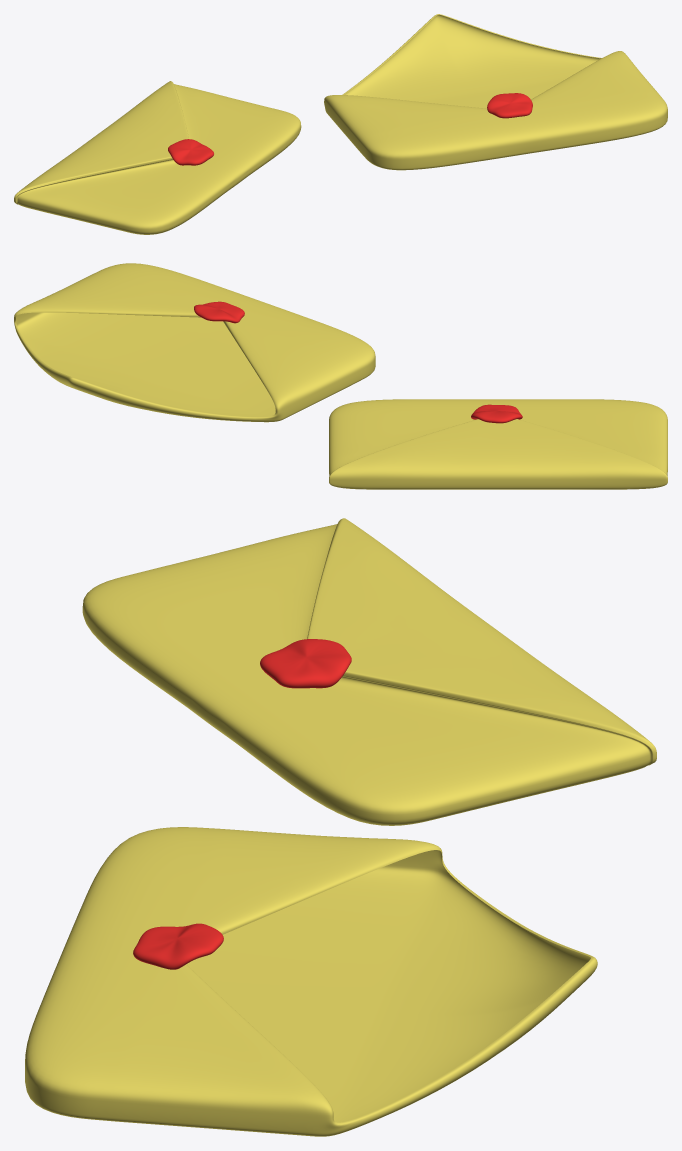
File: envelope.glb
3 views of the same model, one above another, from view 1: azimuth 30°, elevation 25°; view 2: azimuth 150°, elevation 25°; view 3: azimuth 270°, elevation 25° (orthographic). The views are drawn at different scales.
Visible parts, largest first — view 1: Box002, Box001, Cylinder002, Cylinder001; view 2: Box002, Box001, Cylinder002, Cylinder001; view 3: Box002, Box001, Cylinder001, Cylinder002.
Boxes of the visible parts, x1,y1,x2,y2 form: Box002: [324, 14, 667, 170]; Box001: [14, 81, 301, 234]; Cylinder002: [487, 93, 532, 118]; Cylinder001: [168, 139, 213, 165]; Box002: [14, 263, 375, 422]; Box001: [329, 399, 667, 489]; Cylinder002: [194, 301, 244, 323]; Cylinder001: [471, 404, 522, 423]; Box002: [25, 827, 597, 1136]; Box001: [82, 518, 656, 825]; Cylinder001: [260, 639, 351, 688]; Cylinder002: [133, 923, 223, 969].
Bounding box in the file's own units: 1.39 × 0.0789 × 0.6269.
